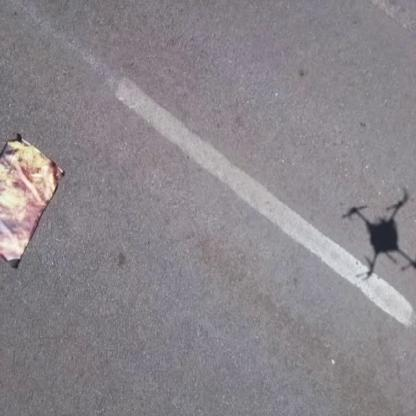fire-poster: (0, 131, 65, 269)
